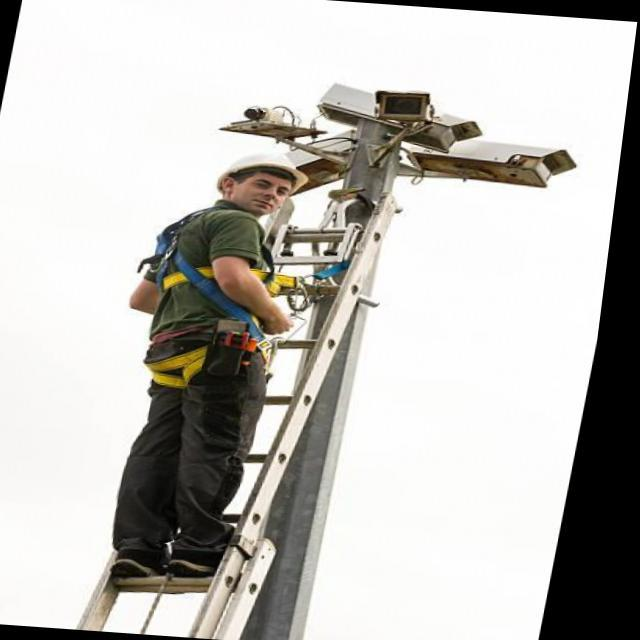belt: (130, 199, 294, 397)
